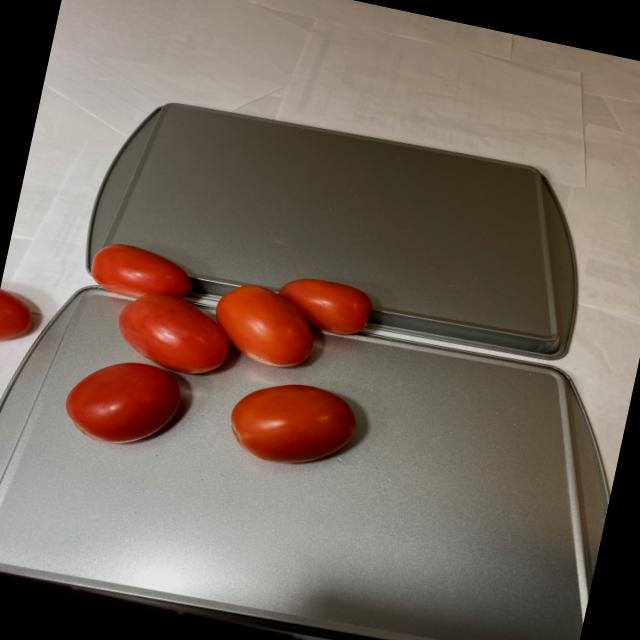tomato: (0, 216, 393, 491)
